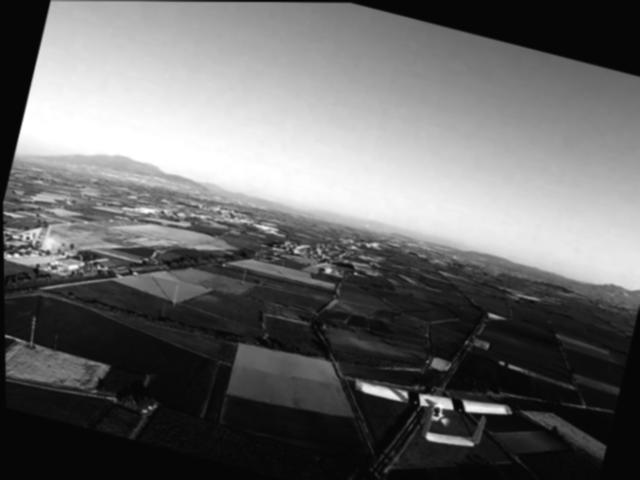hedef: (338, 345, 521, 469)
